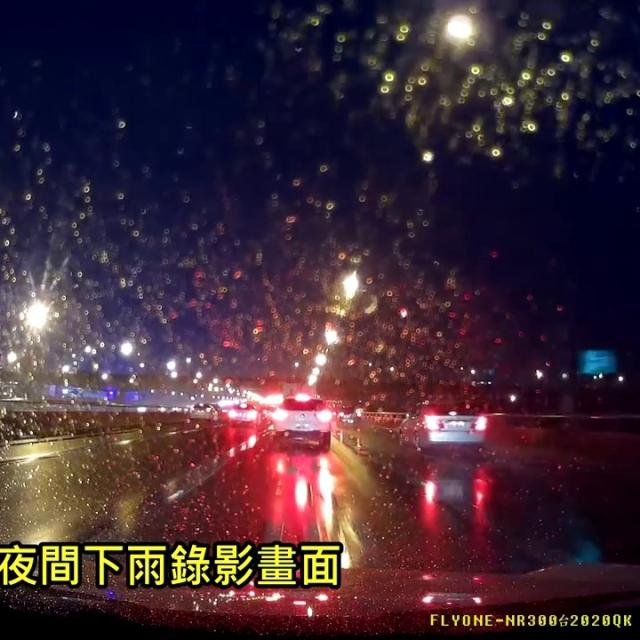Car: (395, 397, 486, 452), (270, 393, 330, 451), (225, 401, 260, 426), (331, 405, 360, 427), (187, 401, 217, 421)
